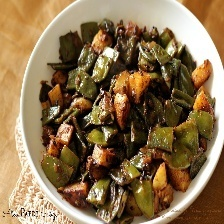sabzi: (40, 17, 216, 223)
